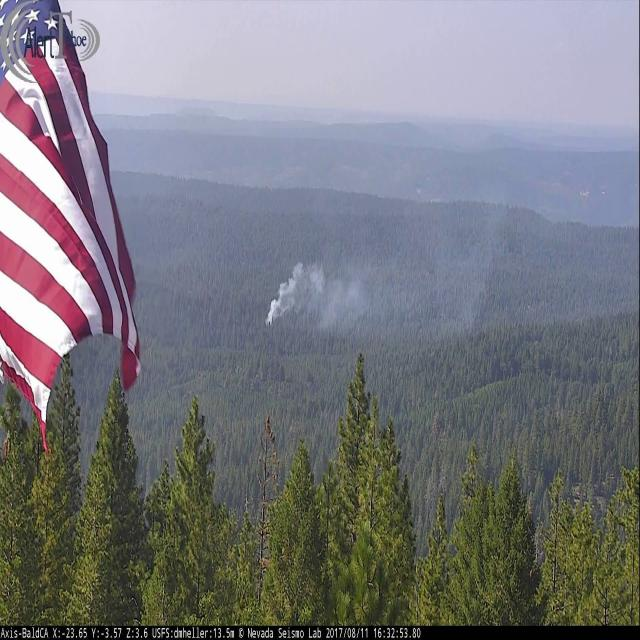smoke: (263, 194, 626, 326)
